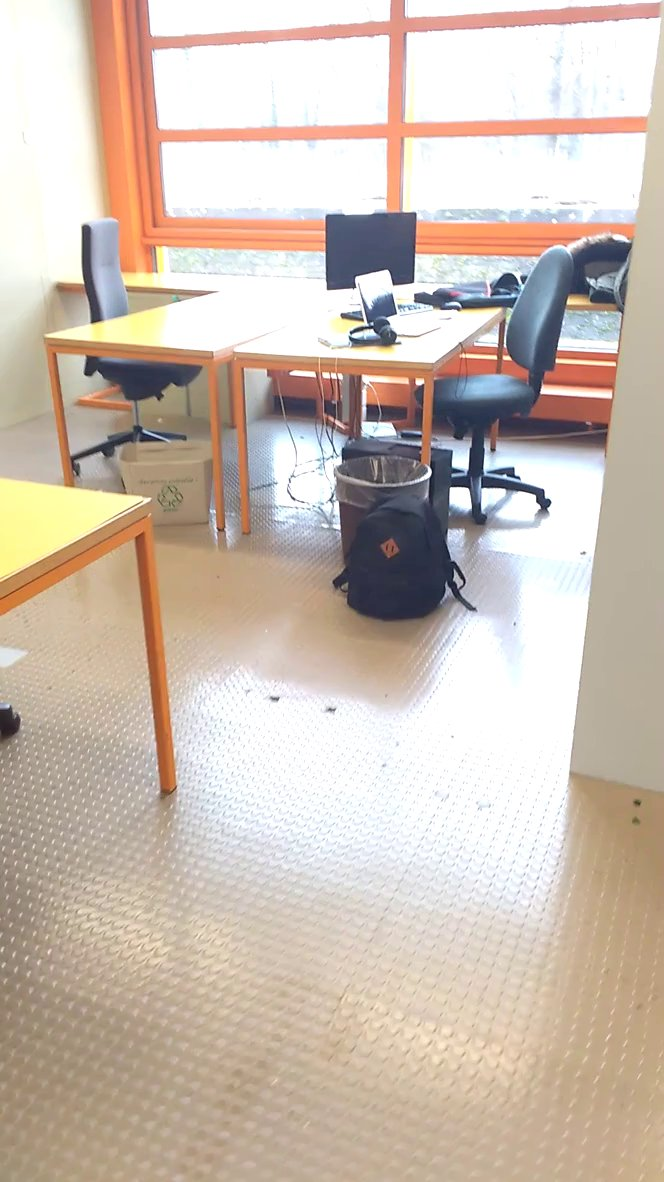bag: (326, 484, 480, 633)
bin: (325, 446, 454, 528)
box: (110, 434, 224, 531)
chair: (410, 234, 582, 485), (75, 202, 208, 407)
laptop: (347, 263, 458, 341)
